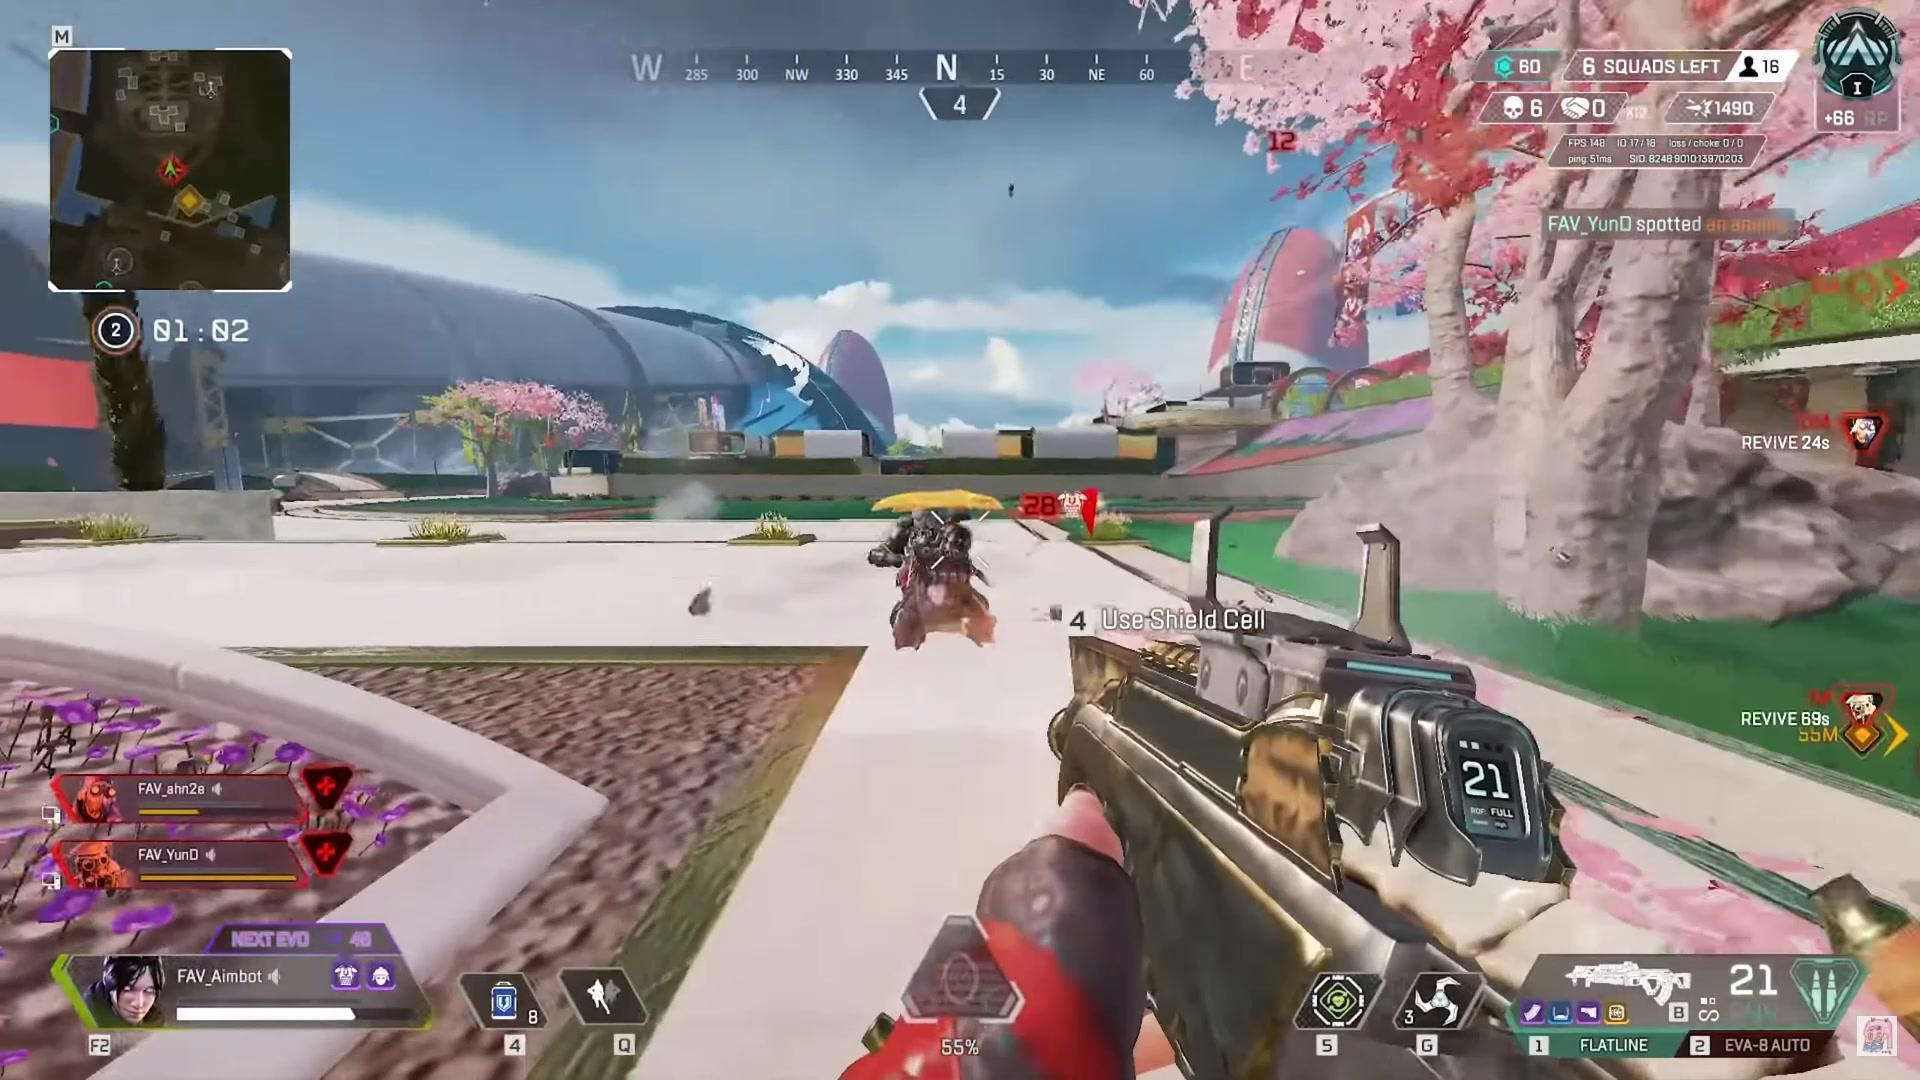avatar: (863, 503, 999, 653)
